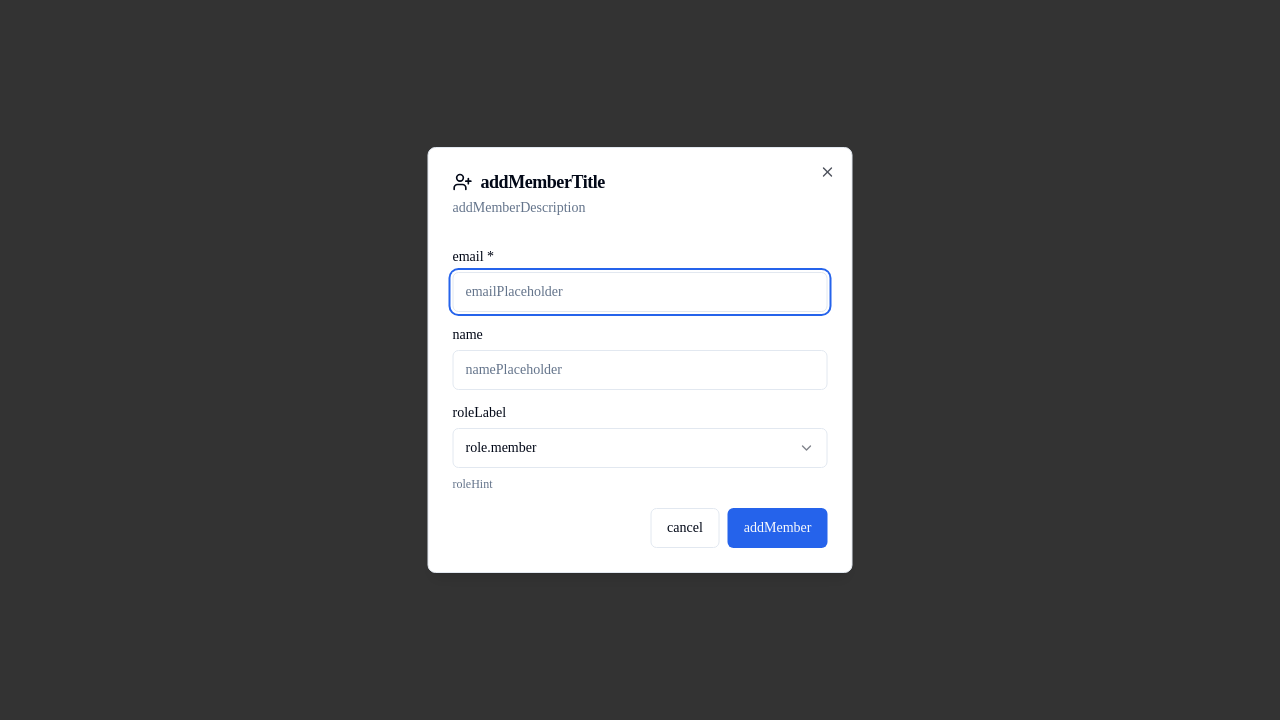
Scenario: AddMemberDialog › Form Submission › should show error message on API failure
Type "existing@example.com" into the field labelled "email *" at (640, 292), box x1=452 y1=272 x2=828 y2=312
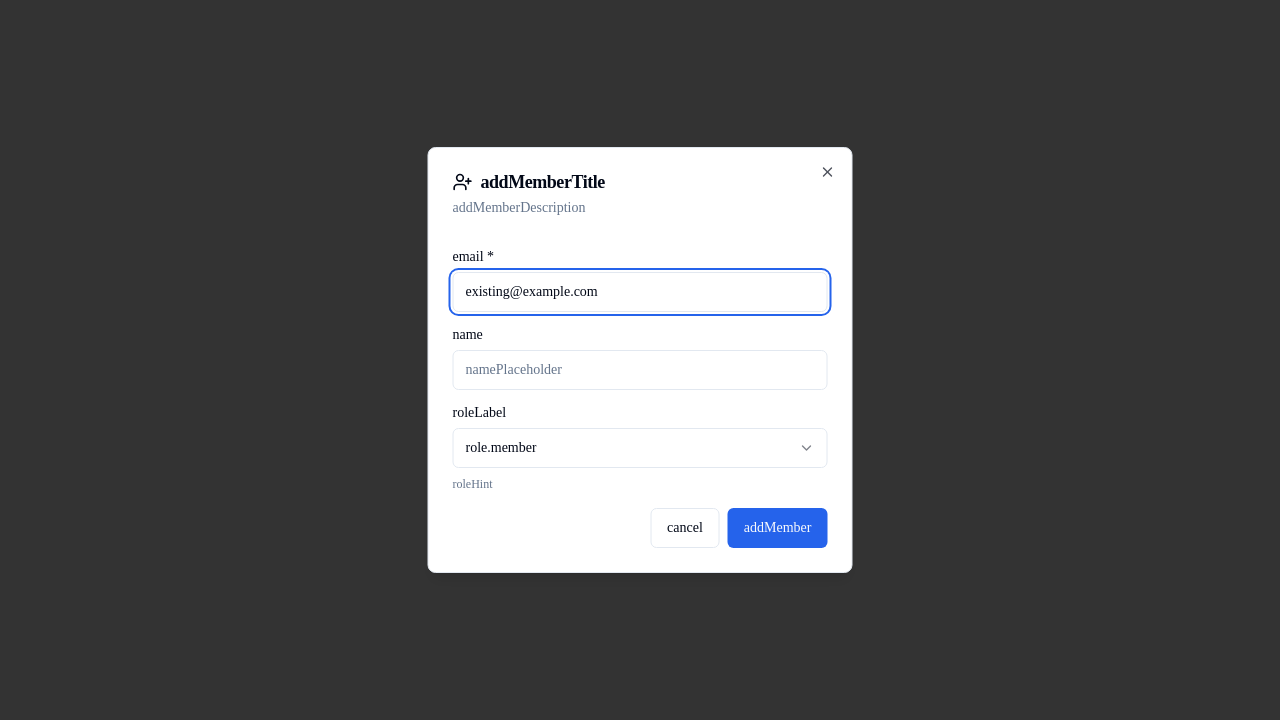
Click the button "addMember" at (778, 528), box x1=728 y1=508 x2=828 y2=548
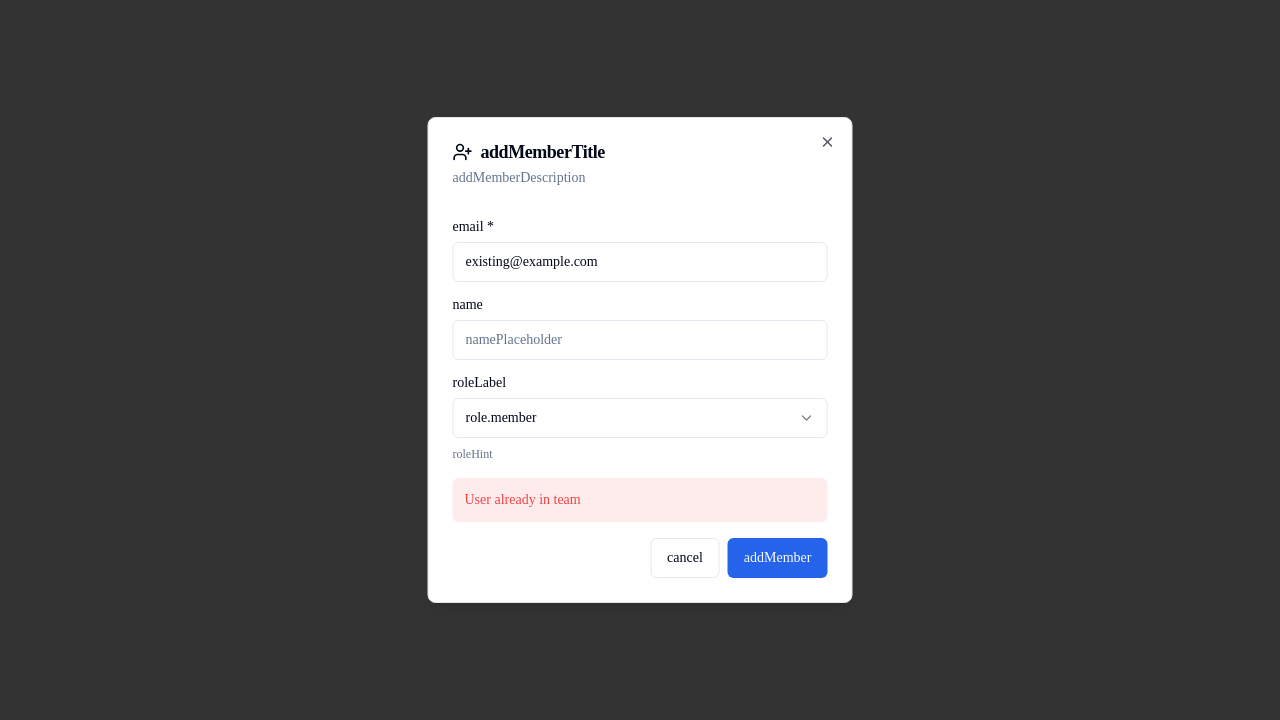
expect the text "User already in team" is shown: met, box x1=452 y1=478 x2=828 y2=522
